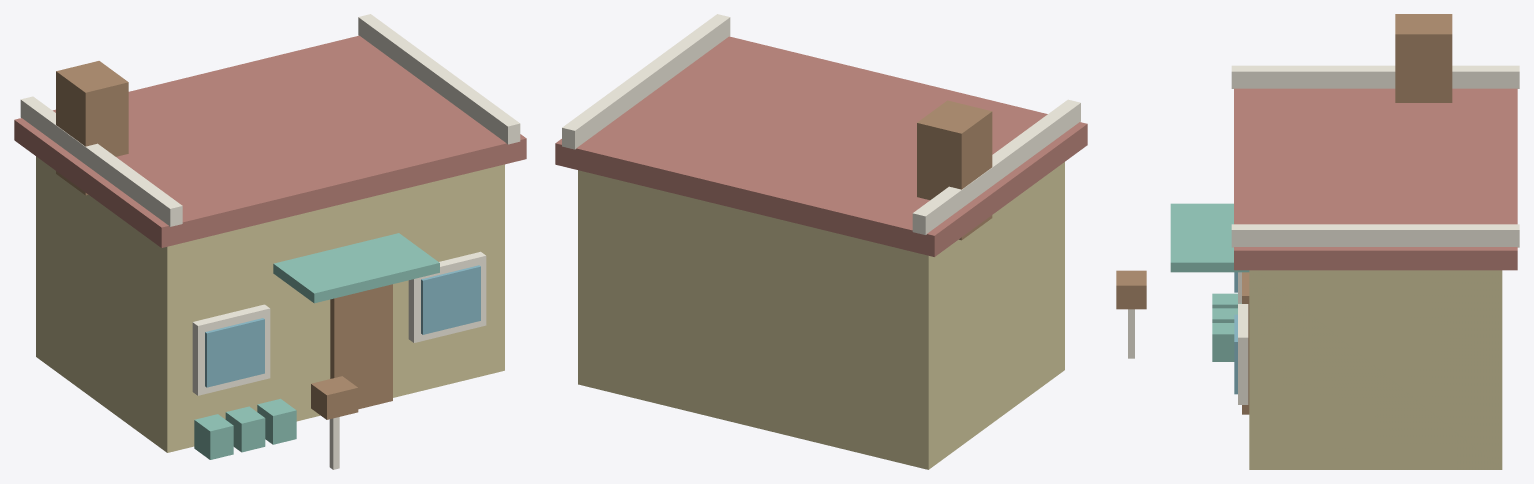
The model's file is home-02.glb.
3 views of the same model, side by side, from view 1: azimuth 30°, elevation 25°; view 2: azimuth 150°, elevation 25°; view 3: azimuth 270°, elevation 25° (orthographic). The views are drawn at different scales.
Visible parts, largest first — view 1: individual walls.002, flat parapet roof, letterbox post.002, front door.002, entrance awning, window pane.001; view 2: individual walls.002, flat parapet roof, letterbox post.002, front door.002; view 3: individual walls.002, flat parapet roof, letterbox post.002, front door.002, entrance awning.
Part boxes in pixels (x1,y1,x2,y2): individual walls.002: (36,156,504,452); flat parapet roof: (14,35,526,247); letterbox post.002: (20,14,520,469); front door.002: (56,61,392,419); entrance awning: (194,233,439,459); window pane.001: (205,265,480,387); individual walls.002: (578,162,1064,469); flat parapet roof: (555,36,1087,256); letterbox post.002: (562,14,1080,234); front door.002: (917,100,992,240); individual walls.002: (1249,270,1502,469); flat parapet roof: (1234,88,1517,270); letterbox post.002: (1128,65,1519,404); front door.002: (1116,14,1452,414); entrance awning: (1170,203,1249,361).
Size of the model in its own units: 4.65 by 3.72 by 4.62.
